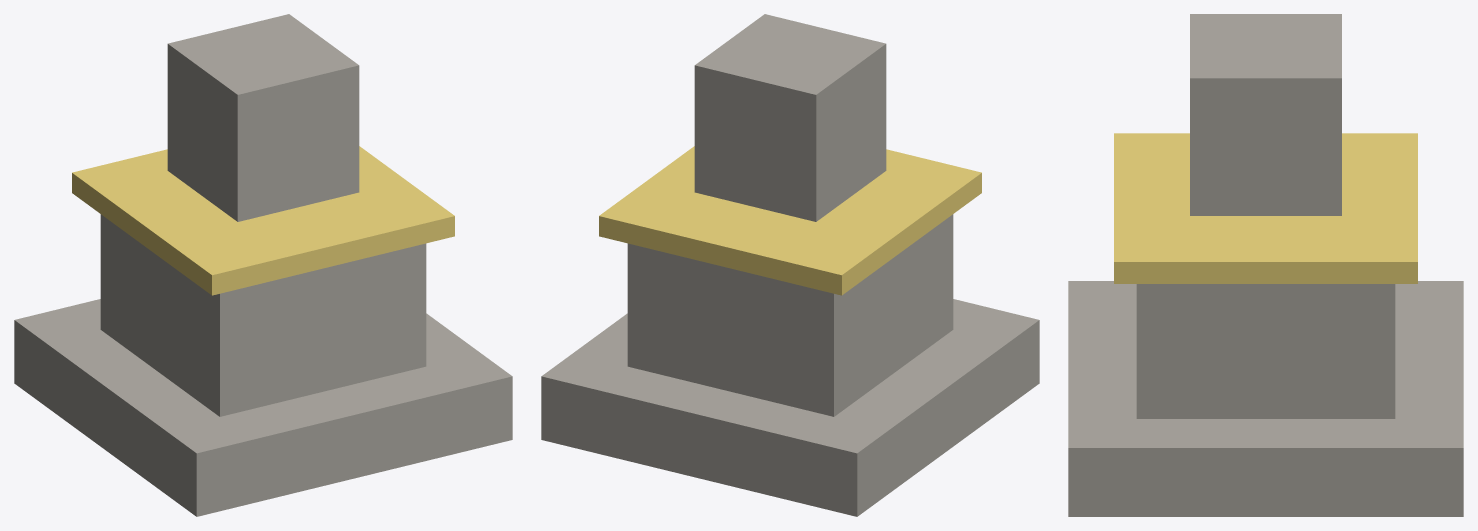
The model's file is reactor.glb.
3 views of the same model, side by side, from view 1: azimuth 30°, elevation 25°; view 2: azimuth 150°, elevation 25°; view 3: azimuth 270°, elevation 25° (orthographic). The views are drawn at different scales.
Visible parts, largest first — view 1: Reactor; view 2: Reactor; view 3: Reactor.
Part boxes in pixels (x1,y1,x2,y2): Reactor: [14, 14, 512, 516]; Reactor: [541, 14, 1039, 516]; Reactor: [1068, 14, 1463, 516].
Size of the model in its own units: 2.6 by 2.81 by 2.6.
